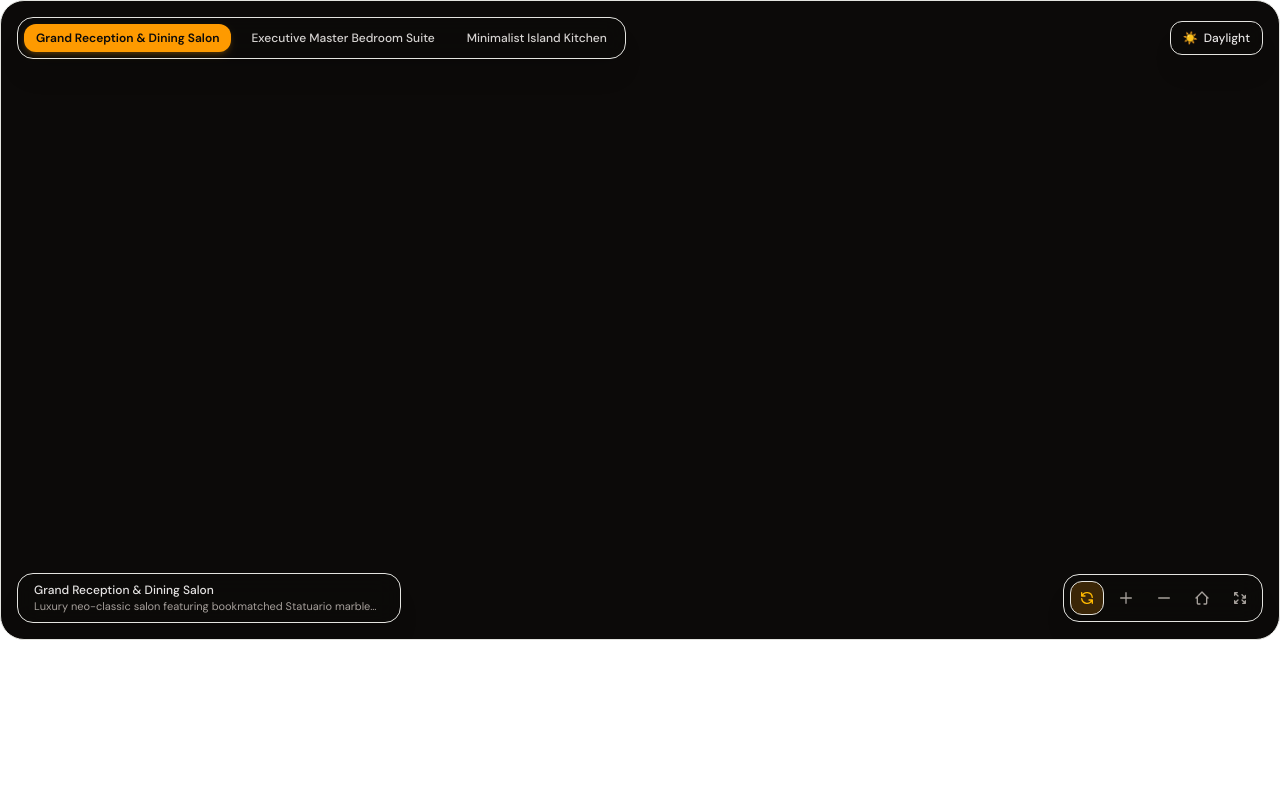
it: PanoramaViewer Component › toggles between daylight and evening glow ambiance
Click the button titled "Toggle Daylight / Evening Mood" at coordinates (1216, 38), box [1170,21,1263,55]
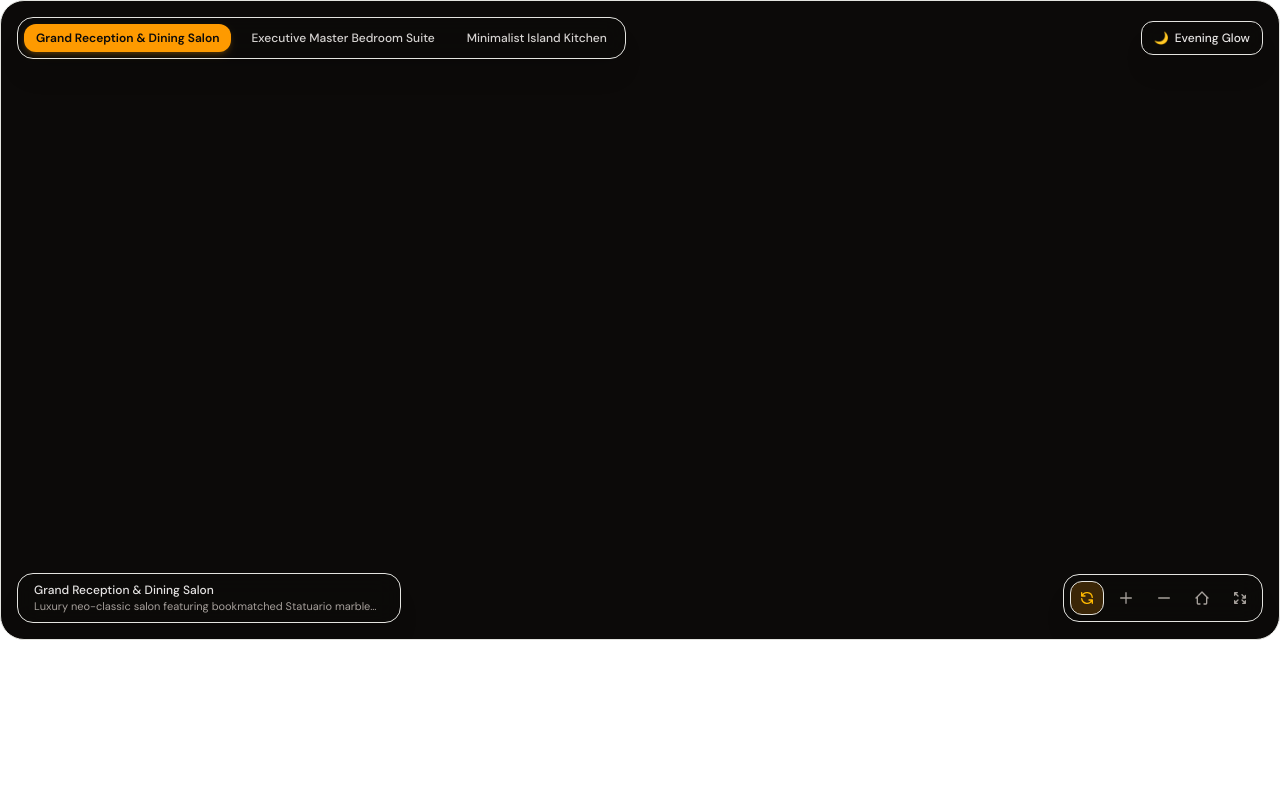
Check: the text "Evening Glow" is shown, box [1175,30,1250,46]
Click the button titled "Toggle Daylight / Evening Mood" at coordinates (1202, 38), box [1141,21,1263,55]
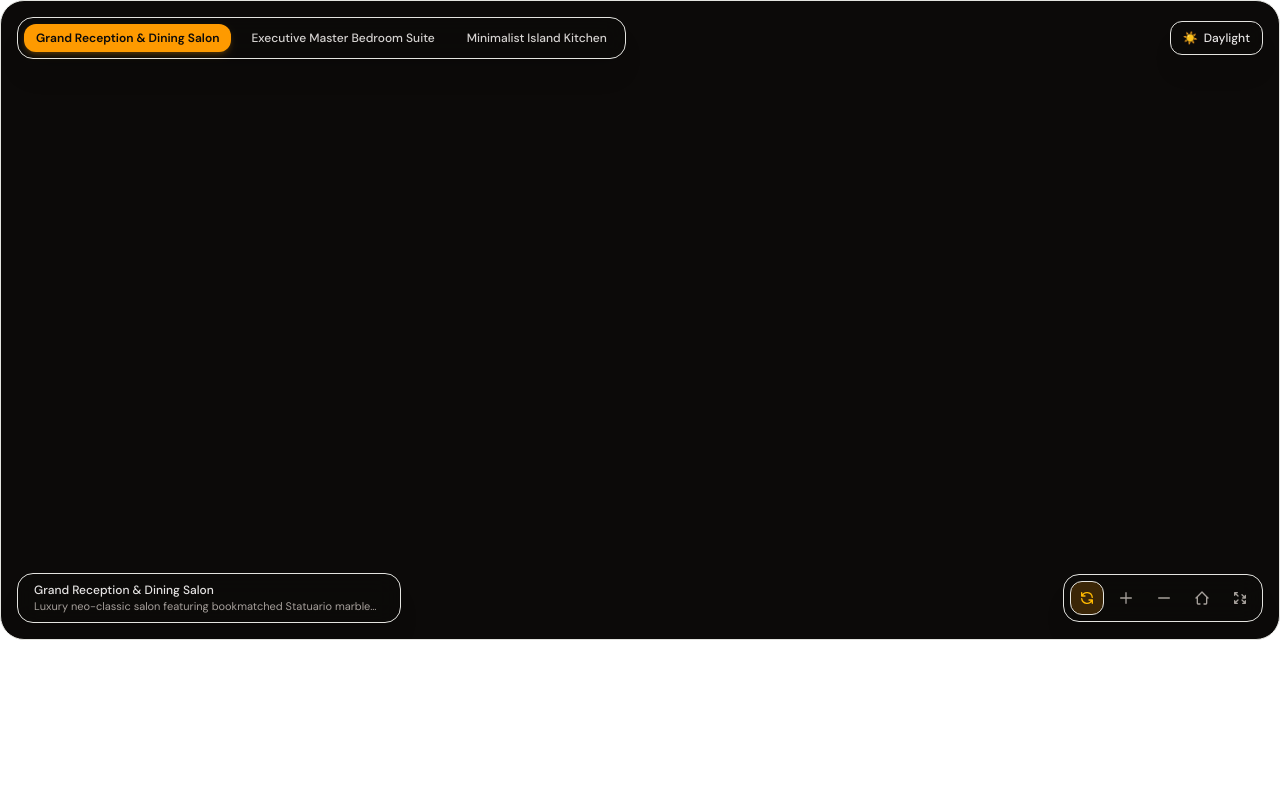
Check: the text "Daylight" is shown, box [1204,30,1250,46]
